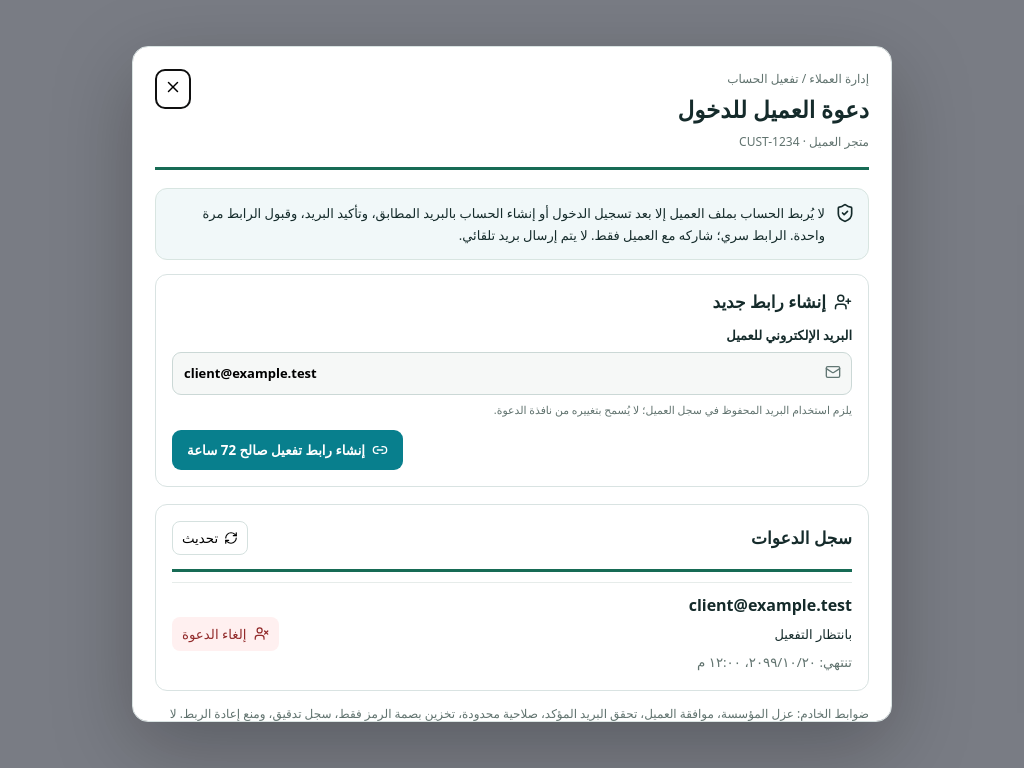
Test: customer activation invitation dialog › hides the old pending invitation when revocation succeeds but the follow-up list refresh fails
Expected: the text "بانتظار التفعيل" is shown, [774, 624, 852, 642]
Click the button "إلغاء الدعوة". click: x=225, y=634
box: [172, 617, 279, 651]
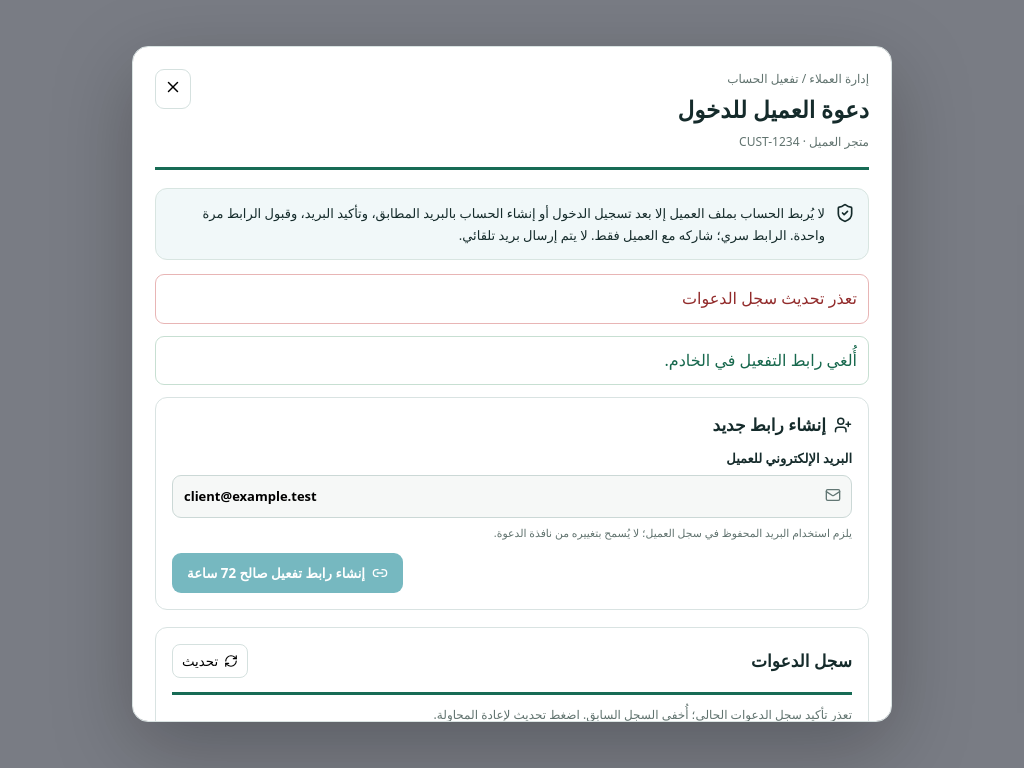
Expected: the message "تعذر تحديث سجل الدعوات" is shown, [155, 274, 869, 324]
Expected: the text "أُلغي رابط التفعيل في الخادم." is shown, [155, 336, 869, 385]
Expected: the text "بانتظار التفعيل" is gone
Click the button "تحديث". click: x=210, y=661
box: [172, 644, 248, 678]
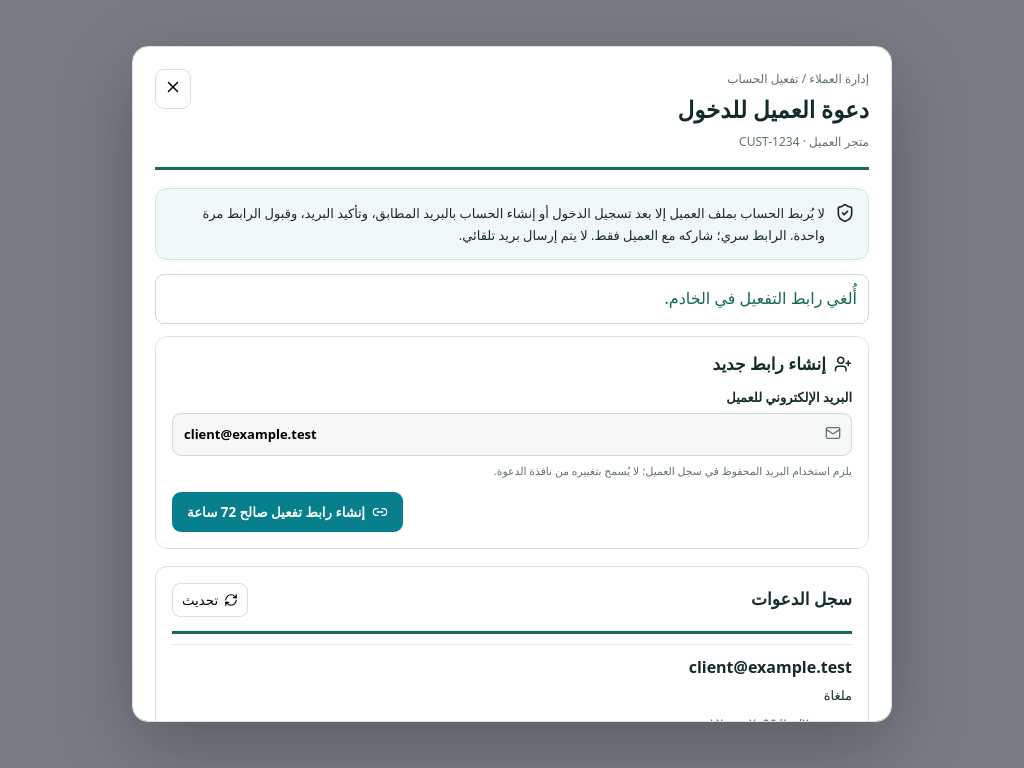
Expected: the button "إلغاء الدعوة" is not shown
Expected: the text "ملغاة" is shown, [824, 686, 852, 704]
